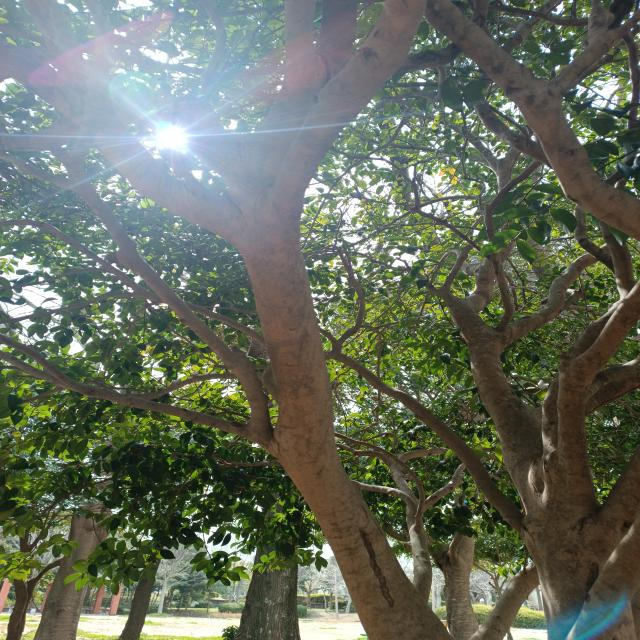Branch: (232, 0, 456, 640), (425, 0, 639, 235), (0, 45, 234, 237)
